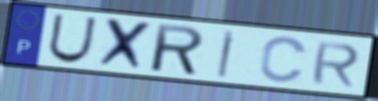C: (257, 35, 310, 85)
I: (215, 28, 238, 80)
R: (150, 22, 207, 78), (308, 40, 363, 89)
U: (45, 12, 100, 64)
X: (94, 16, 155, 74)
